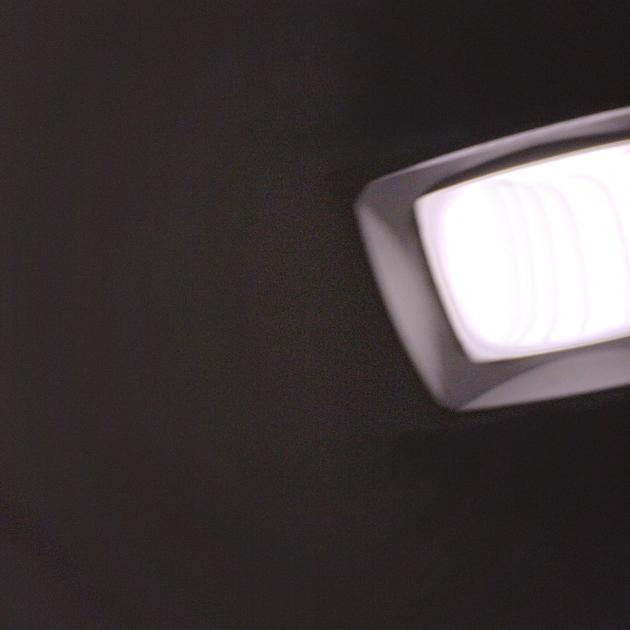light: (326, 51, 630, 451)
